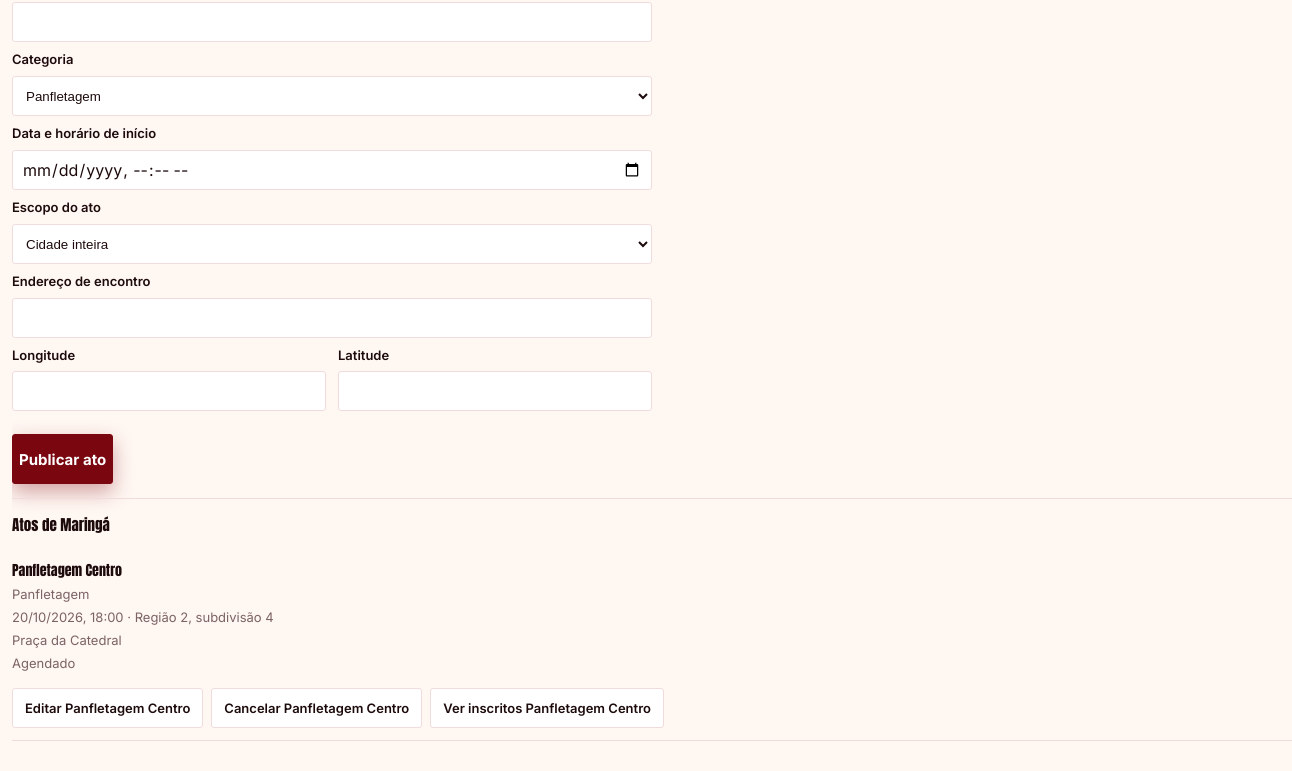
Test: ActManagement › loads attendee names and WhatsApp only after an authorized leader opens the roster
(page scrolled)
Click the button "Ver inscritos Panfletagem Centro". click: (547, 708)
box: [430,688,664,728]
(page scrolled)
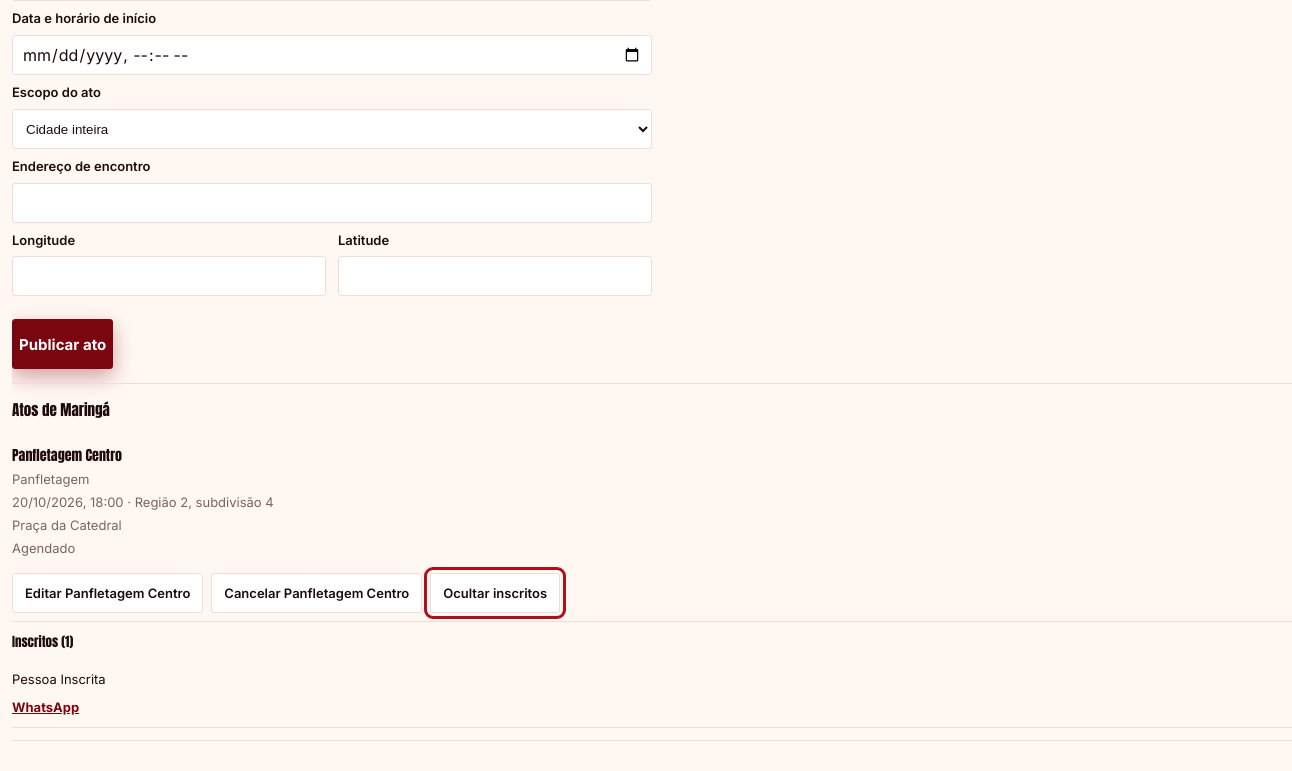
Now the text "Pessoa Inscrita" is shown, box [12,671,106,687]
